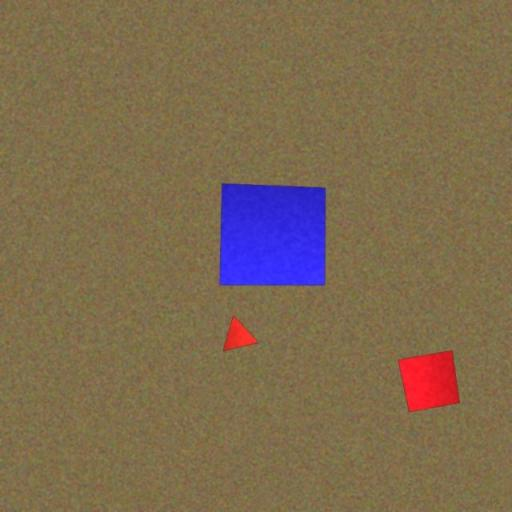BLUE_SQUARE: (218, 182, 326, 286)
RED_SQUARE: (398, 350, 460, 412)
